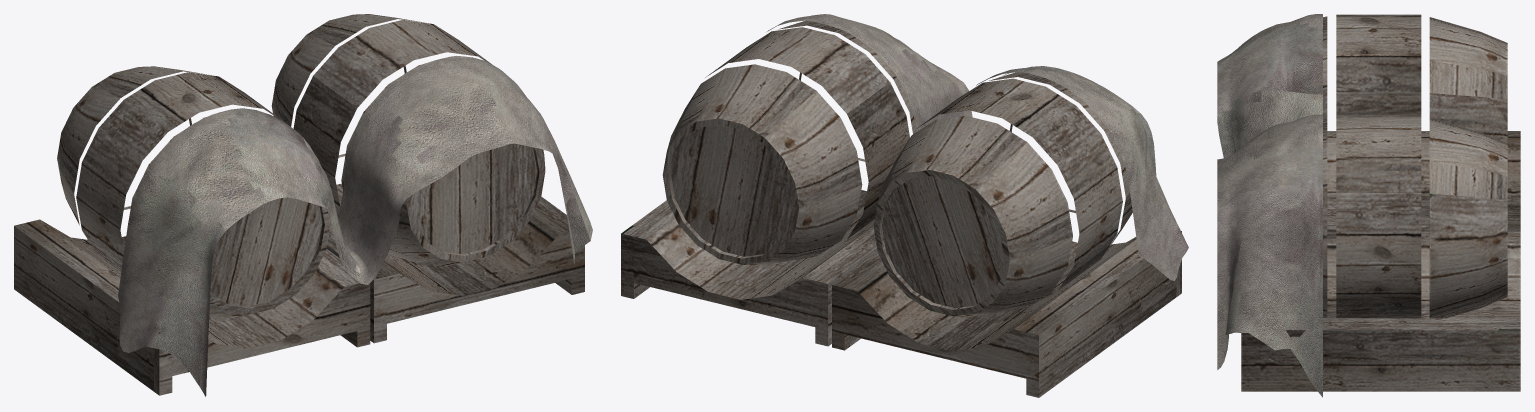
Rendered from bott1_02_1024.glb.
3 views of the same model, side by side, from view 1: azimuth 30°, elevation 25°; view 2: azimuth 150°, elevation 25°; view 3: azimuth 270°, elevation 25° (orthographic). The views are drawn at different scales.
Parts seen in each view (by area): view 1: botti001, telo_barili001; view 2: botti001, telo_barili001; view 3: botti001, telo_barili001.
Part boxes in pixels (x1,y1,x2,y2): botti001: (14, 14, 584, 395); telo_barili001: (118, 56, 592, 396); botti001: (621, 20, 1181, 397); telo_barili001: (767, 14, 1188, 281); botti001: (1241, 14, 1520, 391); telo_barili001: (1217, 14, 1322, 397).
Bounding box in the file's own units: 1.63 × 0.7871 × 0.9839.
2 materials, 2 textured.
